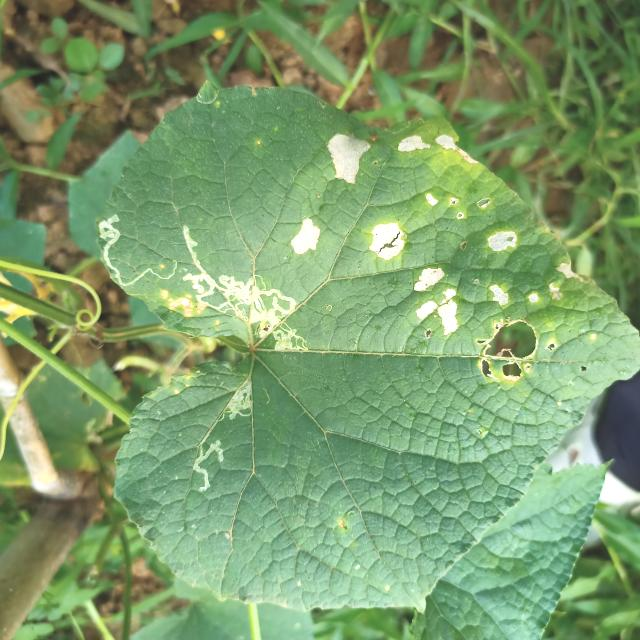disease_cucumber: (326, 124, 592, 387), (283, 212, 328, 267)
